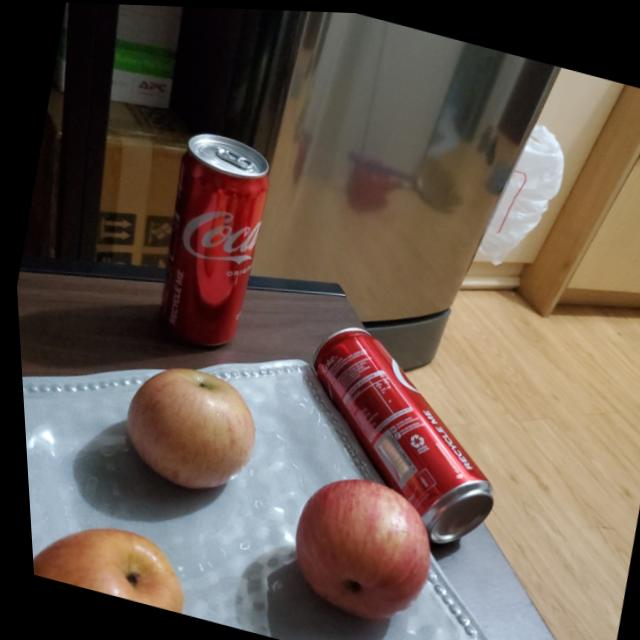apple: (274, 463, 449, 636), (110, 356, 265, 504), (23, 501, 192, 610)
coke: (275, 317, 518, 551), (138, 123, 282, 353)
